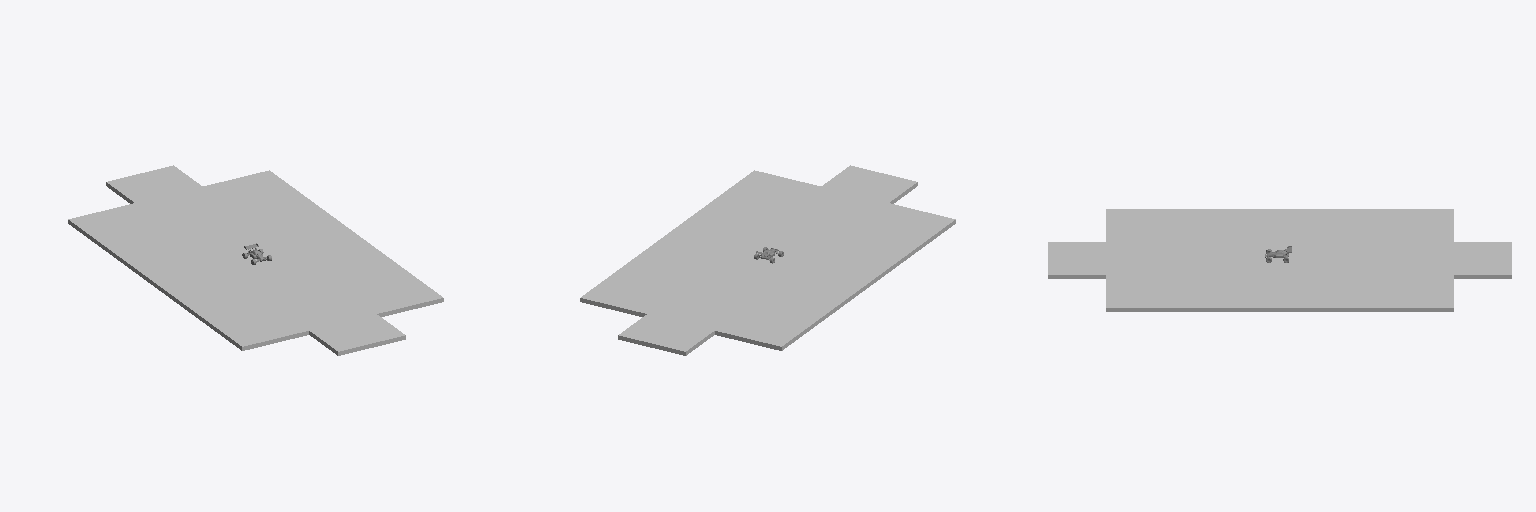
Rendered from FullScene.obj.
3 views of the same model, side by side, from view 1: azimuth 30°, elevation 25°; view 2: azimuth 150°, elevation 25°; view 3: azimuth 270°, elevation 25° (orthographic).
Parts seen in each view (by area): view 1: photos_2015_09_18_fst_719gs3dx5ws.004; view 2: photos_2015_09_18_fst_719gs3dx5ws.004; view 3: photos_2015_09_18_fst_719gs3dx5ws.004.
Part boxes in pixels (x1,y1,x2,y2): photos_2015_09_18_fst_719gs3dx5ws.004: (68,165,443,355); photos_2015_09_18_fst_719gs3dx5ws.004: (580,165,955,355); photos_2015_09_18_fst_719gs3dx5ws.004: (1048,209,1511,311).
Bounding box in the file's own units: 3.01 × 0.1972 × 6.01.